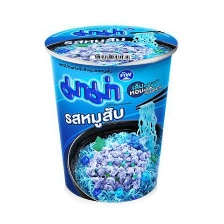paper_cup: (39, 18, 181, 207)
